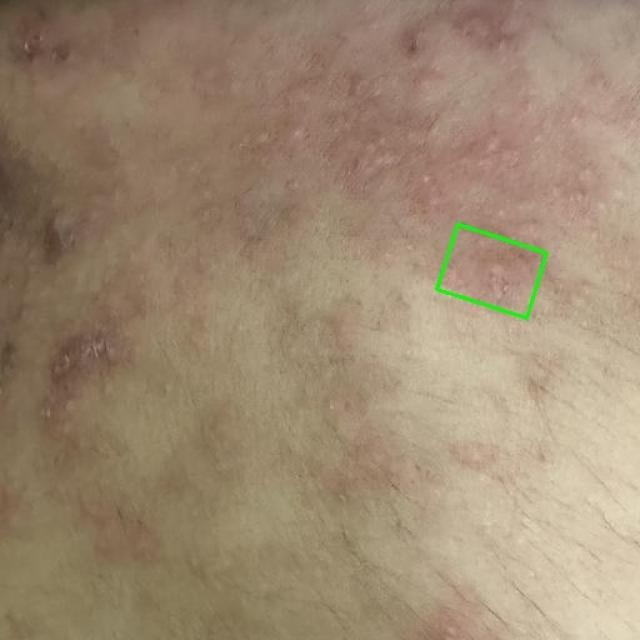Scabies: (437, 224, 547, 318)
